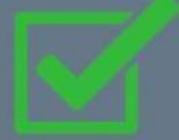CheckBox: (1, 1, 178, 139)
